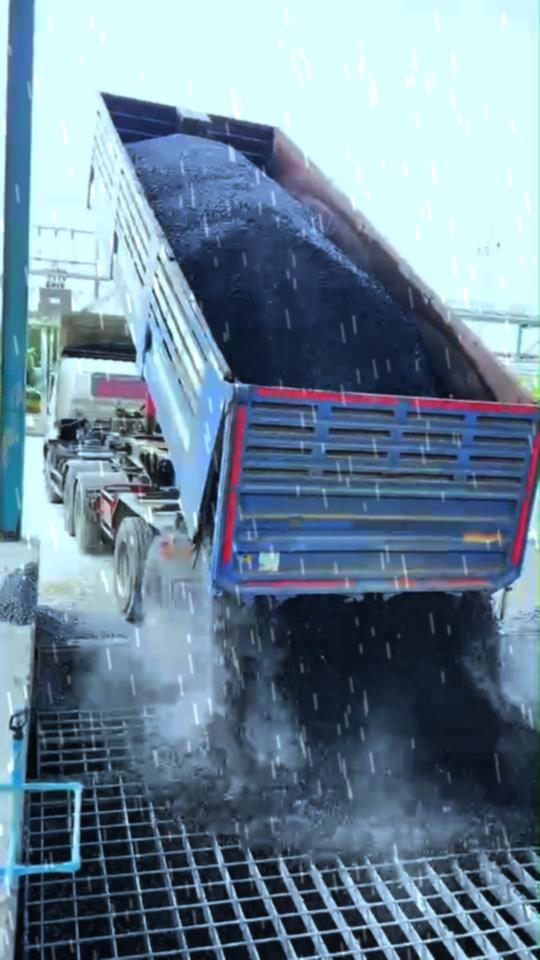gravel: (182, 594, 536, 851), (127, 135, 437, 394), (0, 562, 37, 625)
